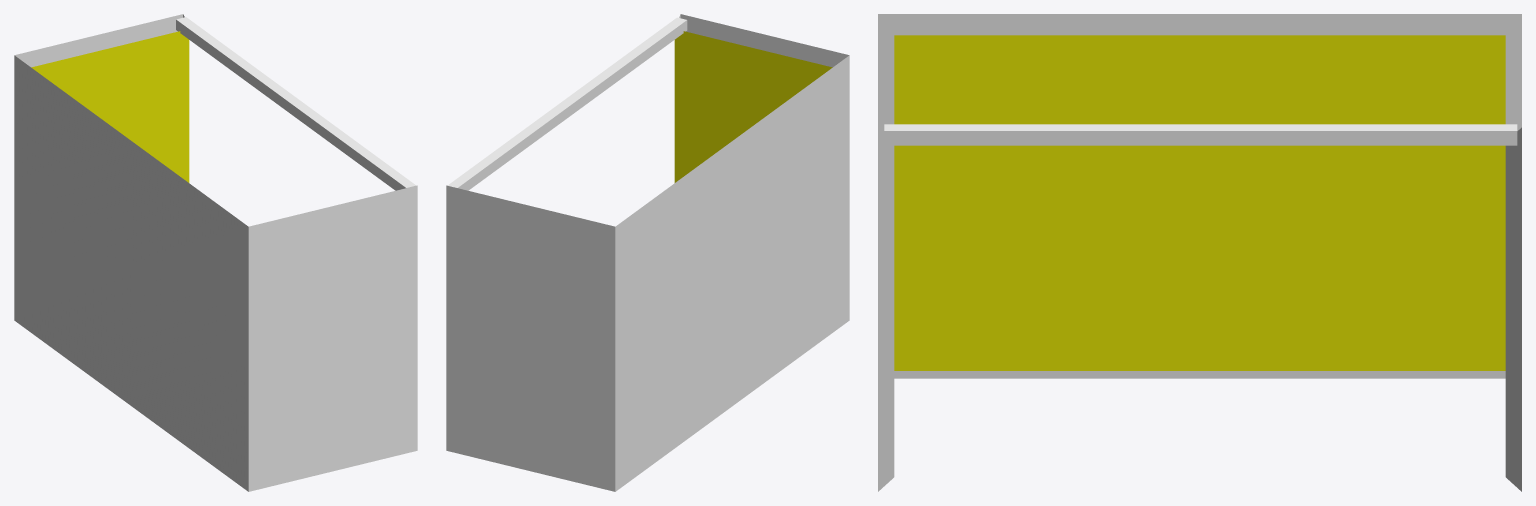
File: YellowGoal.DAE
3 renders of one model, left to right at view 1: azimuth 30°, elevation 25°; view 2: azimuth 150°, elevation 25°; view 3: azimuth 270°, elevation 25°, orthographic. The views are drawn at different scales.
Visible parts, largest first — view 1: YellowGoal_Main, YellowGoal_Bar; view 2: YellowGoal_Main, YellowGoal_Bar; view 3: YellowGoal_Main, YellowGoal_Bar.
Part boxes in pixels (box(x1,y1,x2,y2)): YellowGoal_Main: box(14, 14, 417, 491); YellowGoal_Bar: box(176, 17, 415, 190); YellowGoal_Main: box(446, 14, 849, 491); YellowGoal_Bar: box(448, 17, 687, 190); YellowGoal_Main: box(878, 14, 1521, 491); YellowGoal_Bar: box(884, 124, 1517, 145).
Bounding box in the file's own units: 503 × 1200 × 750.
